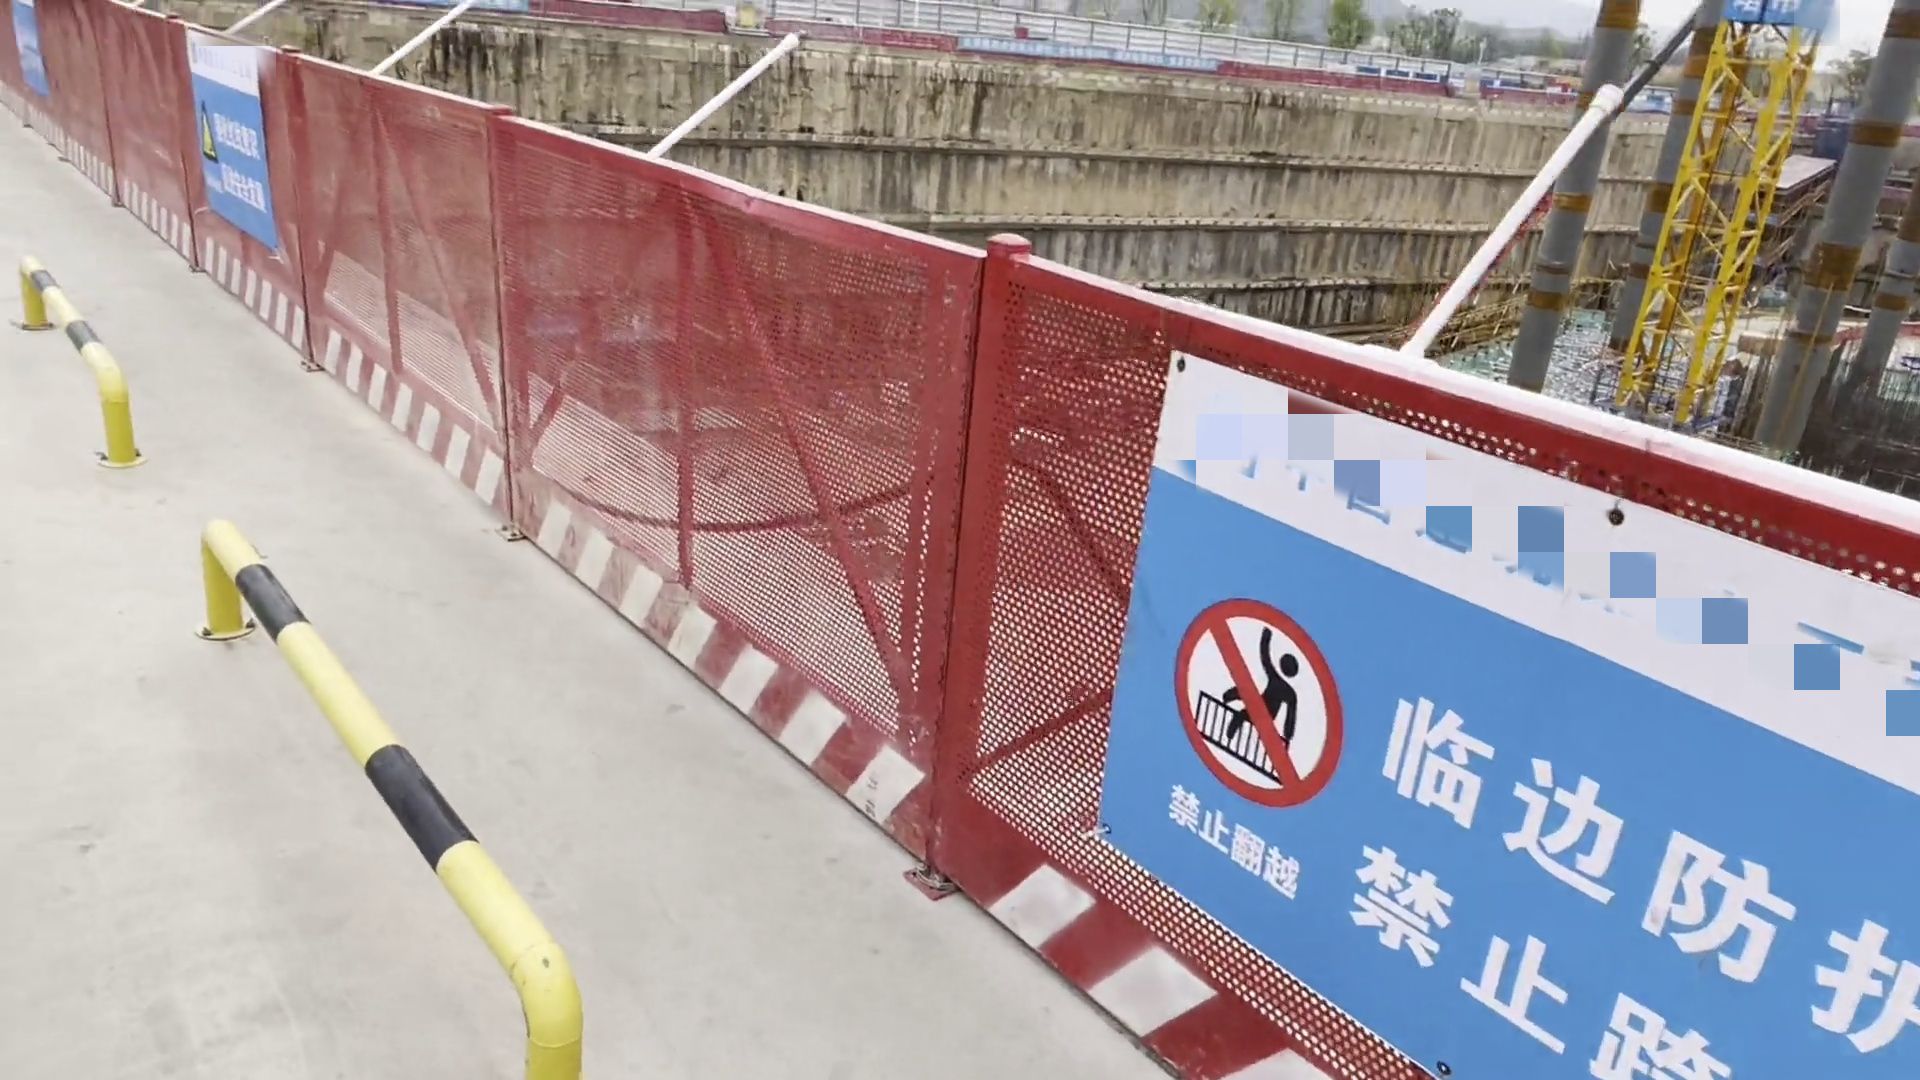fence: (338, 95, 1919, 1080)
slogan: (1151, 361, 1920, 1080), (186, 36, 270, 233)
